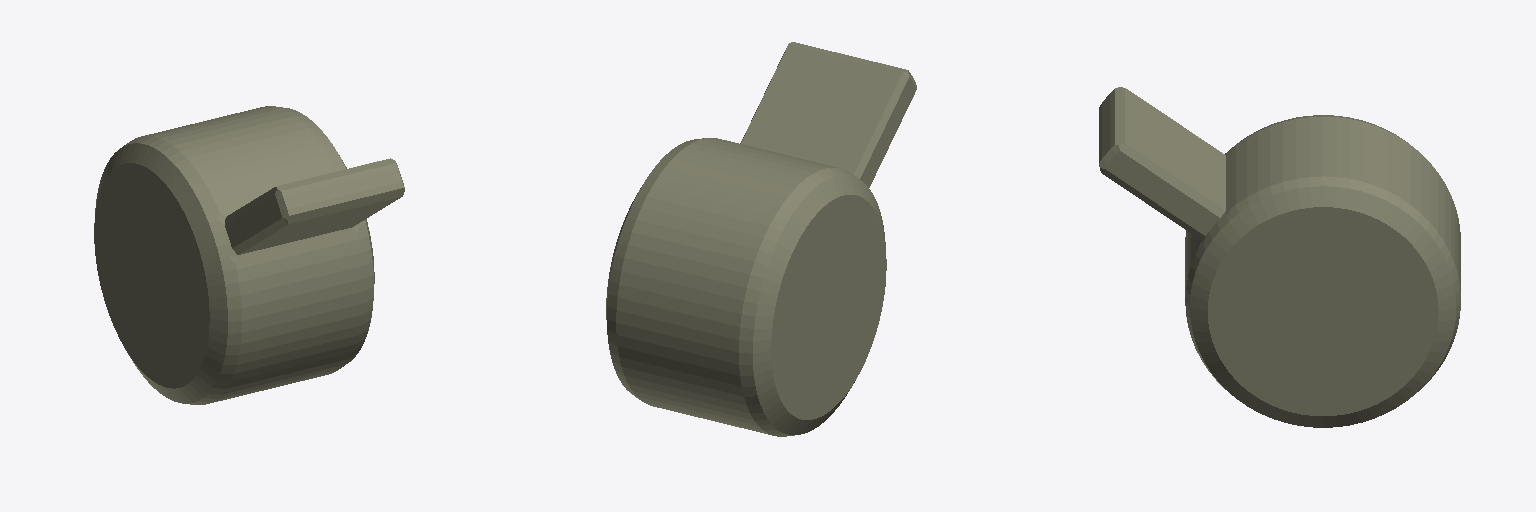
Rendered from wallSwitchLever.obj.
3 views of the same model, side by side, from view 1: azimuth 30°, elevation 25°; view 2: azimuth 150°, elevation 25°; view 3: azimuth 270°, elevation 25° (orthographic).
Visible parts, largest first — view 1: wallSwitchLever; view 2: wallSwitchLever; view 3: wallSwitchLever.
Boxes of the visible parts, box(x1,y1,x2,y2) form: wallSwitchLever: box(94, 106, 404, 404); wallSwitchLever: box(606, 42, 916, 436); wallSwitchLever: box(1099, 87, 1460, 427).
Bounding box in the file's own units: 0.072 × 0.1171 × 0.1368.